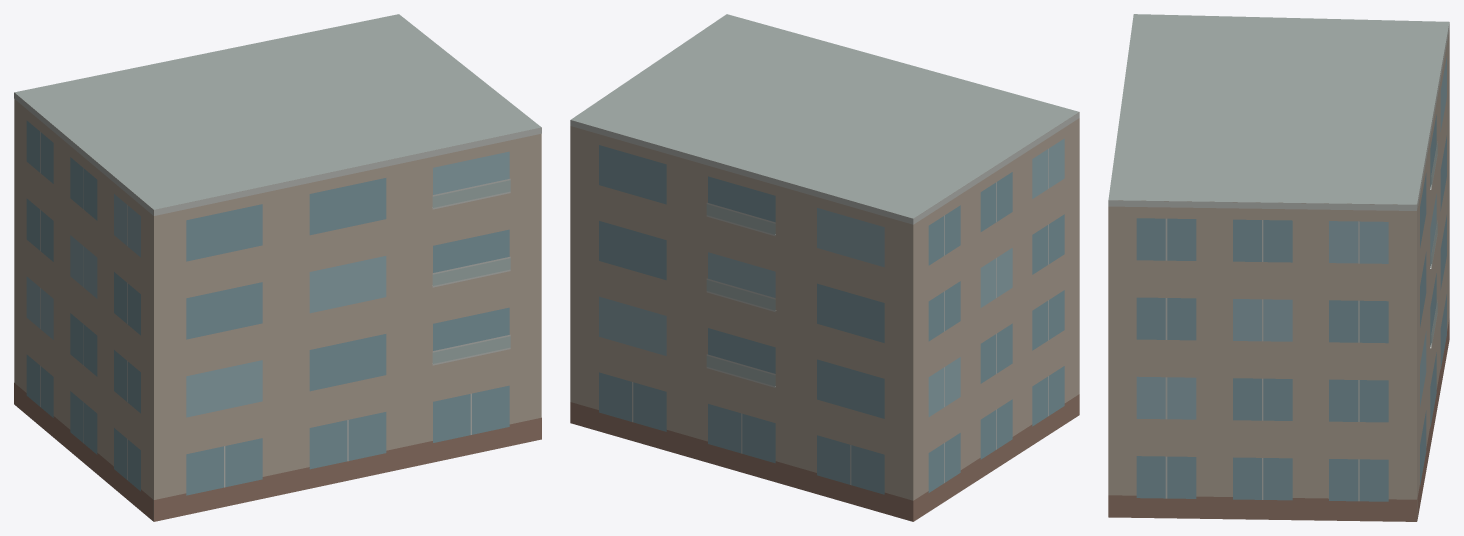
File: survey-upis-32811495.glb
3 views of the same model, side by side, from view 1: azimuth 30°, elevation 25°; view 2: azimuth 150°, elevation 25°; view 3: azimuth 270°, elevation 25° (orthographic). The views are drawn at different scales.
Parts seen in each view (by area): view 1: survey-upis-32811495.tmp; view 2: survey-upis-32811495.tmp; view 3: survey-upis-32811495.tmp.
Boxes of the visible parts, box(x1,y1,x2,y2) form: survey-upis-32811495.tmp: box(14, 14, 541, 521); survey-upis-32811495.tmp: box(570, 14, 1079, 521); survey-upis-32811495.tmp: box(1108, 14, 1449, 521).
Bounding box in the file's own units: 15.74 × 12.2 × 11.91.
